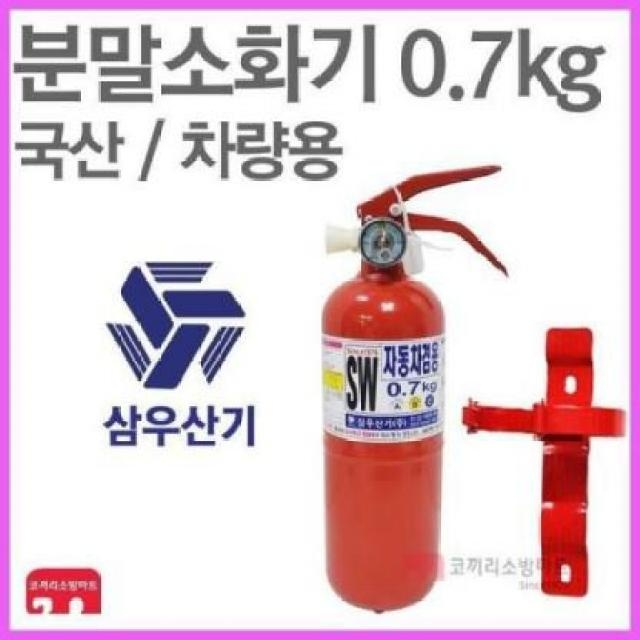fire extinguisher: (320, 165, 511, 612)
